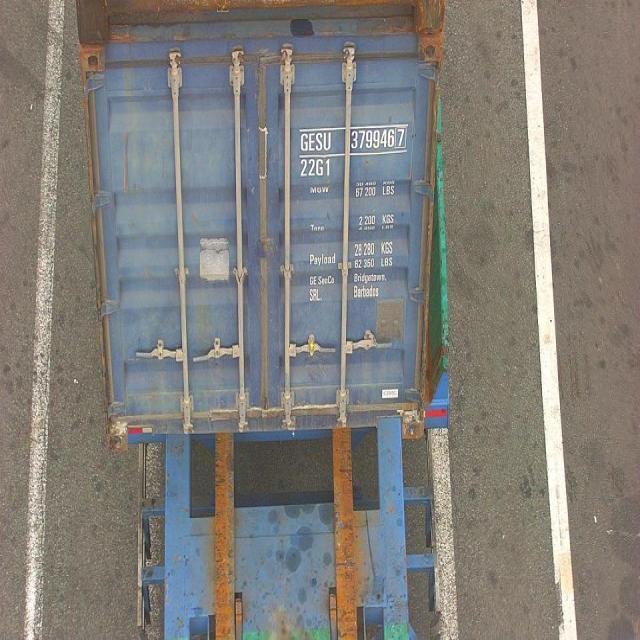ISO: (300, 160, 331, 182)
container_number: (300, 126, 408, 154)
